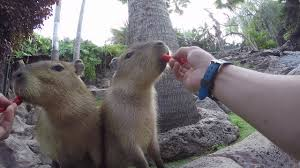capivara: (13, 59, 100, 168), (101, 41, 171, 168)
